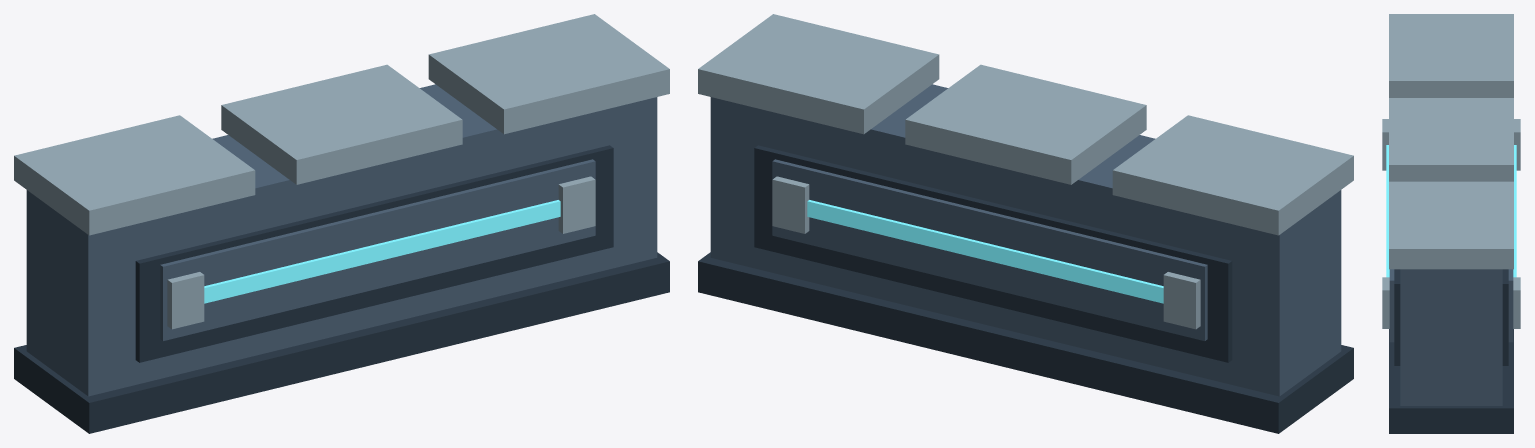
Rendered from core_wall_variant.glb.
3 views of the same model, side by side, from view 1: azimuth 30°, elevation 25°; view 2: azimuth 150°, elevation 25°; view 3: azimuth 270°, elevation 25° (orthographic). The views are drawn at different scales.
Parts seen in each view (by area): view 1: core_wall_variant; view 2: core_wall_variant; view 3: core_wall_variant.
Boxes of the visible parts, x1=… form: core_wall_variant: x1=14, y1=14, x2=669, y2=433; core_wall_variant: x1=698, y1=14, x2=1353, y2=433; core_wall_variant: x1=1382, y1=14, x2=1520, y2=433.
Bounding box in the file's own units: 1.96 × 0.72 × 0.488.
